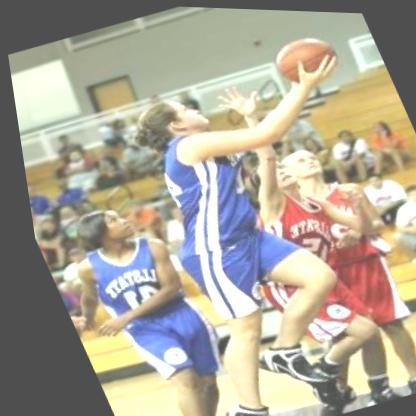basketball: (260, 22, 348, 92)
